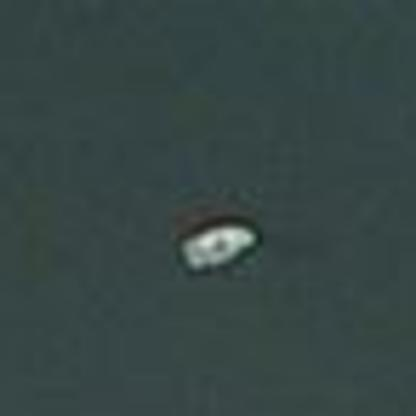ship: (164, 210, 273, 280)
